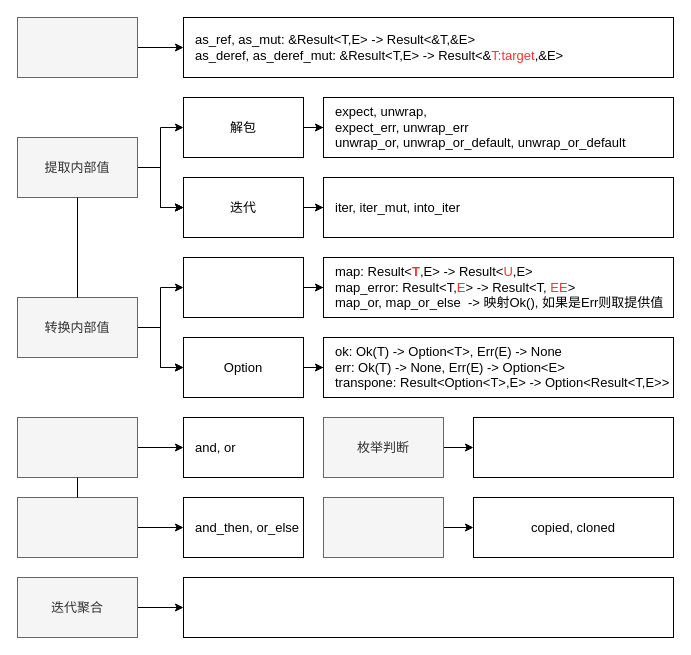
Image size: 691x655. Some labels were removed from this diagram. The shapes that lost their labels are listed below. From the top down, each one's centre as x and y in pixels, then its label:
At [77,47]: "引用适配".
At [243,287]: "映射".
At [77,447]: "布尔运算".
At [573,447]: "is_ok, is_err is_ok_and, is_err_and".
At [77,527]: "链式调用".
At [383,527]: "复制Ok".
At [428,607]: "Iterator<Result<T,E>> -> 聚合 -> Result< TSUM , E>".
